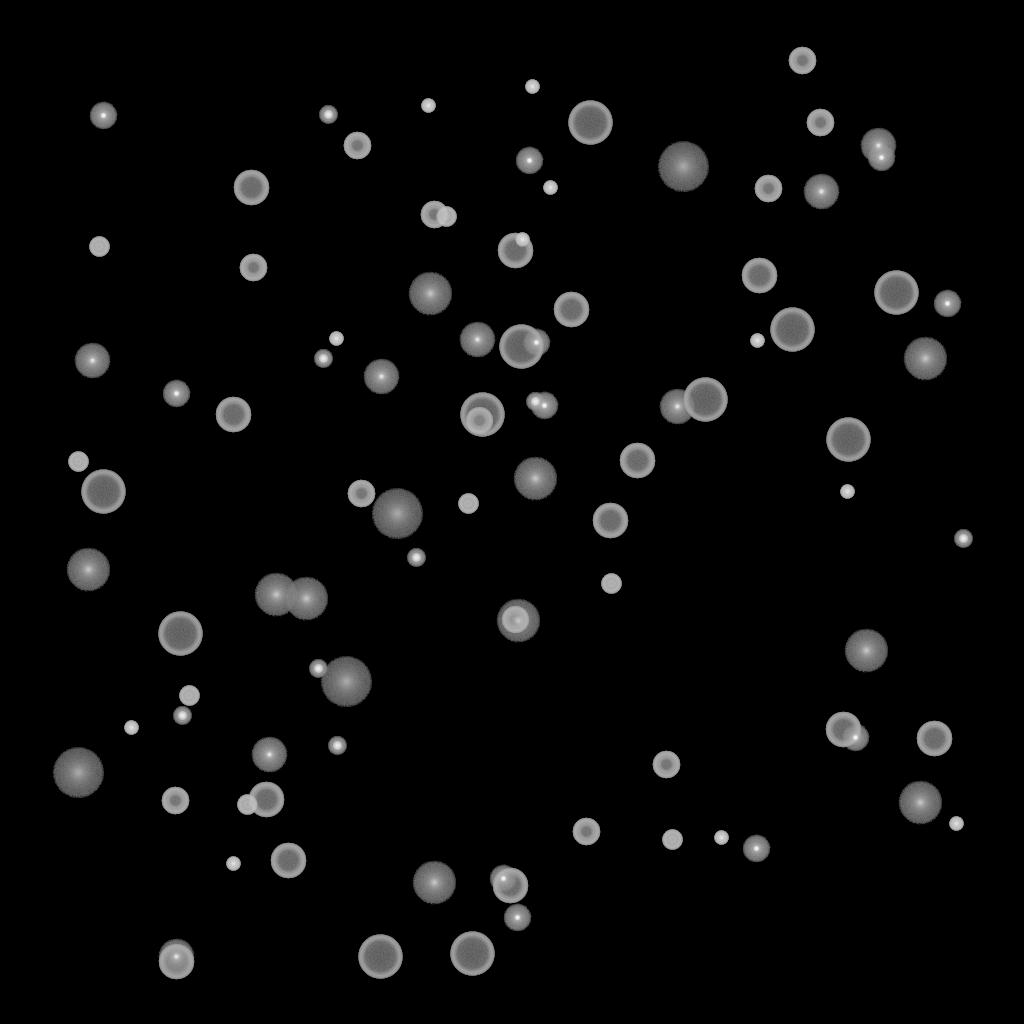depth:-10: (89, 102, 117, 130), (867, 144, 895, 172), (503, 904, 531, 932), (515, 147, 543, 175), (489, 865, 517, 893), (530, 392, 558, 420), (162, 380, 190, 408), (522, 329, 550, 357), (841, 724, 869, 752), (742, 835, 770, 863), (933, 290, 961, 318)
depth:-20: (173, 707, 191, 725), (314, 350, 332, 368), (954, 530, 972, 548), (526, 393, 544, 411), (407, 549, 425, 567), (319, 106, 337, 124), (328, 737, 346, 755), (309, 660, 327, 678)
depth:-30: (226, 857, 240, 871), (949, 817, 963, 831), (750, 334, 764, 348), (124, 721, 138, 735), (421, 99, 435, 113), (714, 831, 728, 845), (840, 485, 854, 499), (525, 80, 539, 94), (543, 181, 557, 195), (329, 332, 343, 346), (515, 233, 529, 247)
depth:-40: (458, 494, 478, 514), (68, 452, 88, 472), (237, 795, 257, 815), (662, 830, 682, 850), (179, 686, 199, 706), (436, 207, 456, 227), (601, 574, 621, 594), (89, 237, 109, 257)
depth:-50: (788, 47, 816, 75), (652, 751, 680, 779), (343, 132, 371, 160), (572, 818, 600, 846), (420, 201, 448, 229), (465, 407, 493, 435), (754, 175, 782, 203), (347, 480, 375, 508), (806, 109, 834, 137), (239, 254, 267, 282), (501, 606, 529, 634), (161, 787, 189, 815)
depth:-60: (215, 397, 251, 433), (916, 721, 952, 757), (741, 258, 777, 294), (497, 233, 533, 269), (492, 868, 528, 904), (592, 503, 628, 539), (270, 843, 306, 879), (553, 292, 589, 328), (619, 443, 655, 479), (248, 782, 284, 818), (233, 170, 269, 206), (158, 944, 194, 980), (825, 712, 861, 748)
depth:-70: (358, 935, 402, 979), (770, 308, 814, 352), (460, 393, 504, 437), (499, 325, 543, 369), (874, 271, 918, 315), (81, 470, 125, 514), (683, 378, 727, 422), (158, 612, 202, 656), (826, 418, 870, 462), (450, 932, 494, 976), (568, 101, 612, 145)
depth:0: (860, 128, 896, 164), (363, 359, 399, 395), (158, 939, 194, 975), (74, 343, 110, 379), (659, 389, 695, 425), (251, 737, 287, 773), (459, 322, 495, 358), (803, 174, 839, 210)
depth:10: (408, 272, 452, 316), (898, 781, 942, 825), (412, 861, 456, 905), (496, 599, 540, 643), (513, 457, 557, 501), (66, 548, 110, 592), (903, 337, 947, 381), (284, 577, 328, 621), (254, 573, 298, 617), (844, 629, 888, 673)
depth:20: (320, 657, 372, 707), (52, 748, 104, 798), (657, 142, 709, 192), (371, 489, 423, 539)
